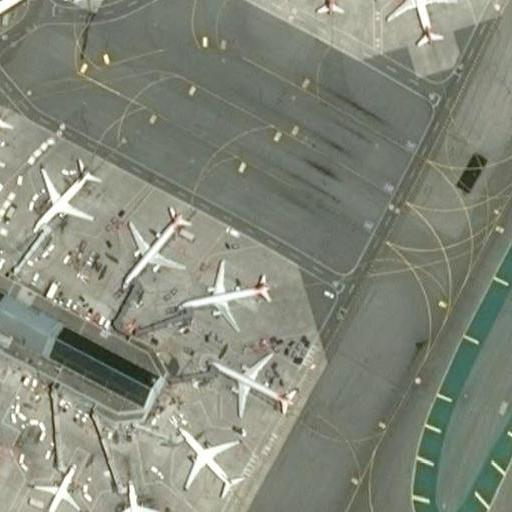Aircraft: (220, 345, 289, 410), (115, 215, 185, 278), (176, 426, 234, 498), (21, 162, 83, 215), (31, 460, 74, 512), (108, 480, 152, 512), (0, 105, 7, 177)
